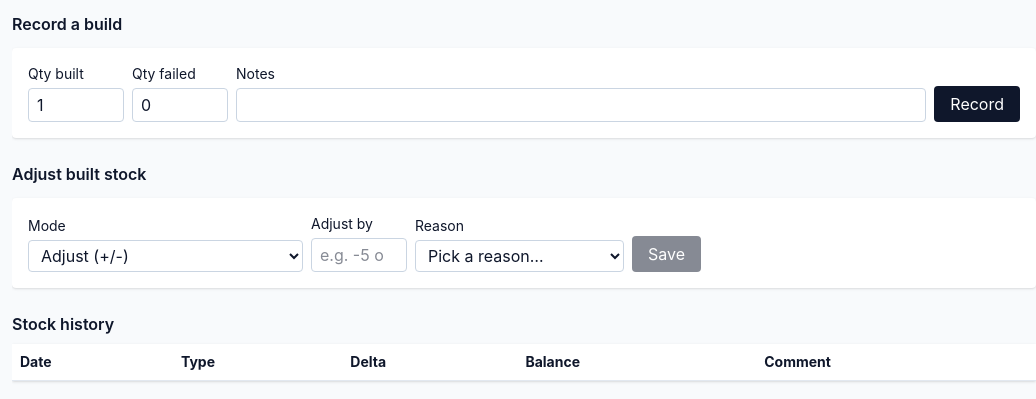
Test case: StockSection adjust reason › offers preset reasons and reveals a detail field for Other…
Select "Other…" in the dropdown labelled "Reason" at (520,256), box x1=415 y1=240 x2=624 y2=272
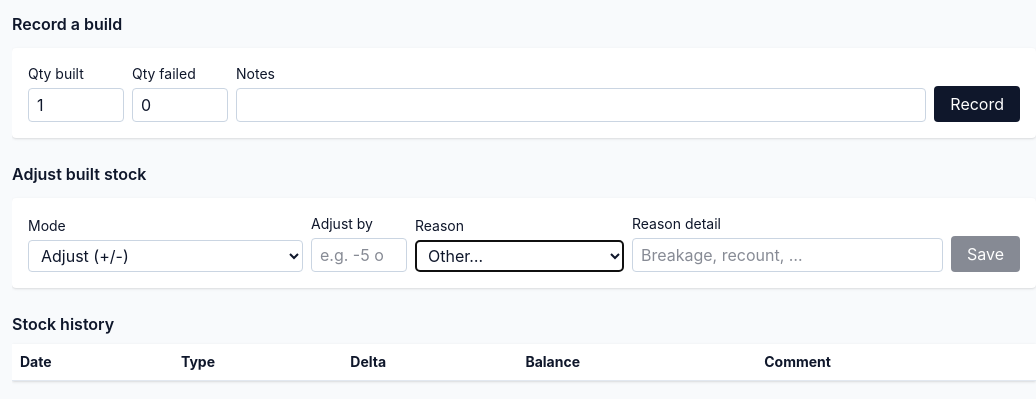
Check: the field labelled "Reason detail" is shown, box x1=632 y1=238 x2=943 y2=272
